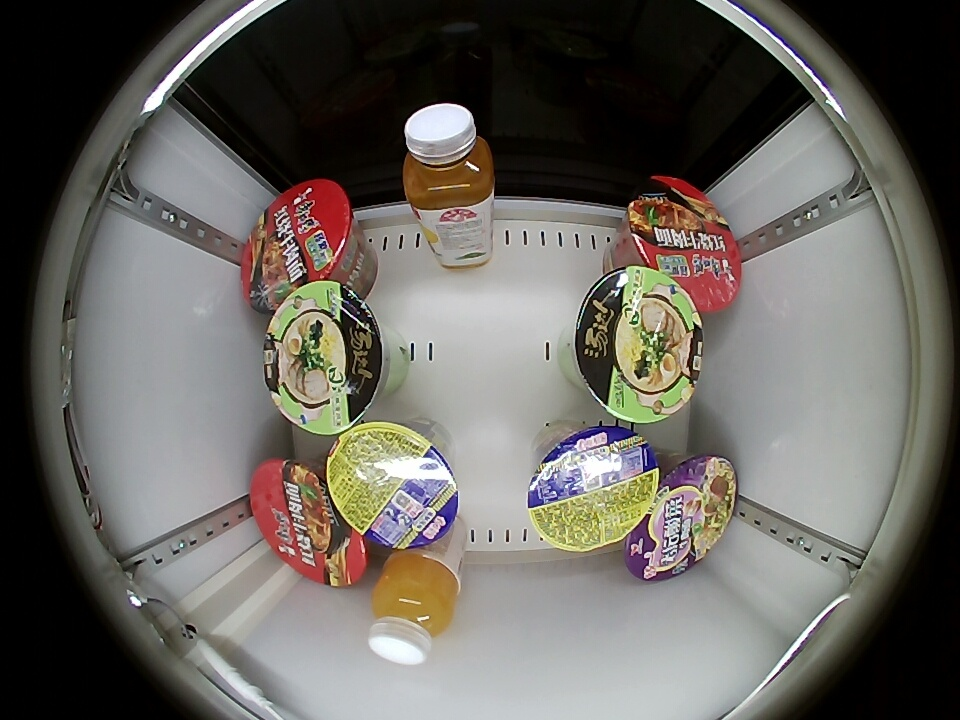chapai: (402, 103, 496, 212)
heweidao: (325, 422, 459, 550), (528, 426, 659, 553)
hongshaoniurou: (626, 177, 741, 313), (242, 180, 355, 314), (251, 460, 367, 588)
laotansuancai: (625, 454, 738, 583)
tangdaren: (571, 264, 705, 425), (262, 279, 389, 436)
weic: (368, 553, 461, 665)
